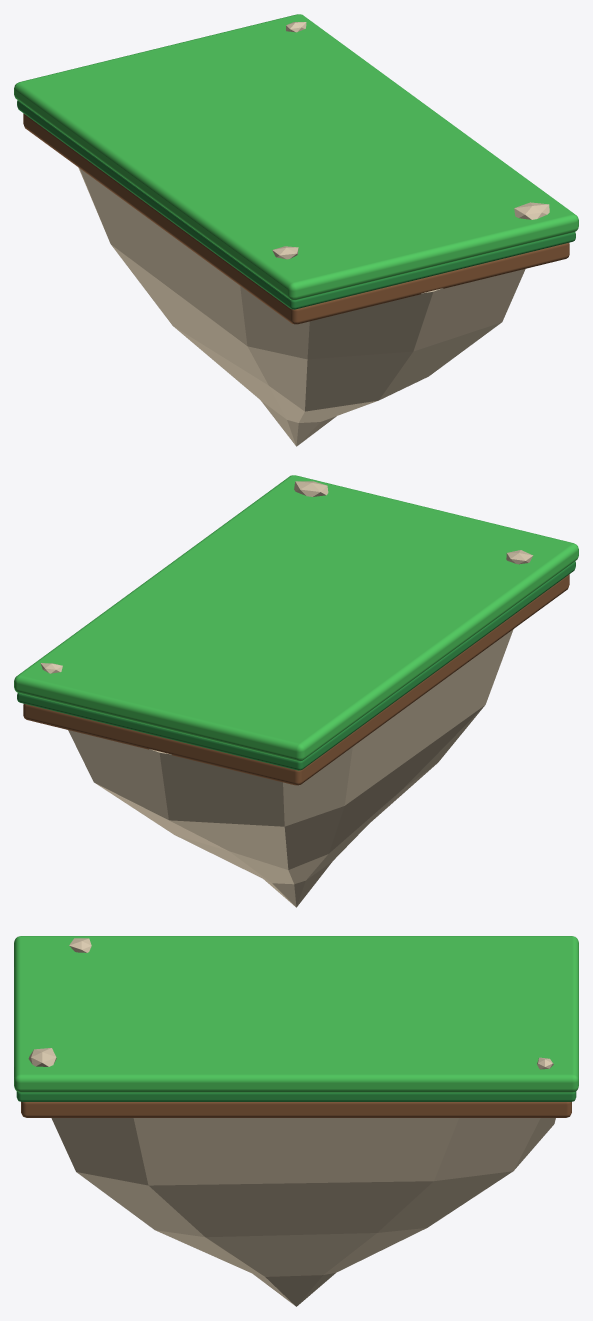
Rendered from PLAT_Isle_L.glb.
The picture shows the model from 3 angles, top to bottom: view 1: azimuth 30°, elevation 25°; view 2: azimuth 150°, elevation 25°; view 3: azimuth 270°, elevation 25°; orthographic projection.
Visible parts, largest first — view 1: Top, Underside, Soil, TopLip; view 2: Top, Underside, Soil, TopLip; view 3: Top, Underside, Soil, TopLip.
Part boxes in pixels (box(x1,y1,x2,y2)): Top: box(14, 14, 578, 300); Underside: box(78, 167, 525, 446); Soil: box(23, 113, 569, 324); TopLip: box(17, 100, 575, 309); Top: box(14, 475, 578, 761); Underside: box(68, 629, 513, 907); Soil: box(23, 574, 569, 785); TopLip: box(17, 561, 575, 770); Top: box(14, 936, 578, 1092); Underside: box(51, 1118, 555, 1306); Soil: box(21, 1102, 571, 1117); TopLip: box(16, 1091, 576, 1101).
Bounding box in the file's own units: 6 × 6.04 × 10.
